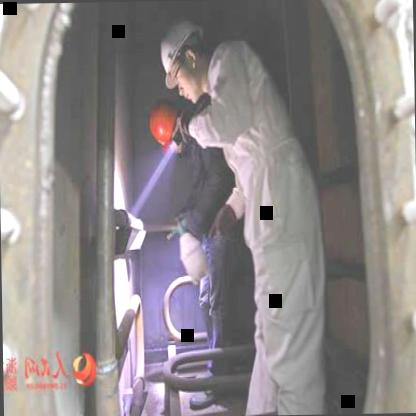helmet: (157, 5, 218, 101), (144, 90, 192, 156)
